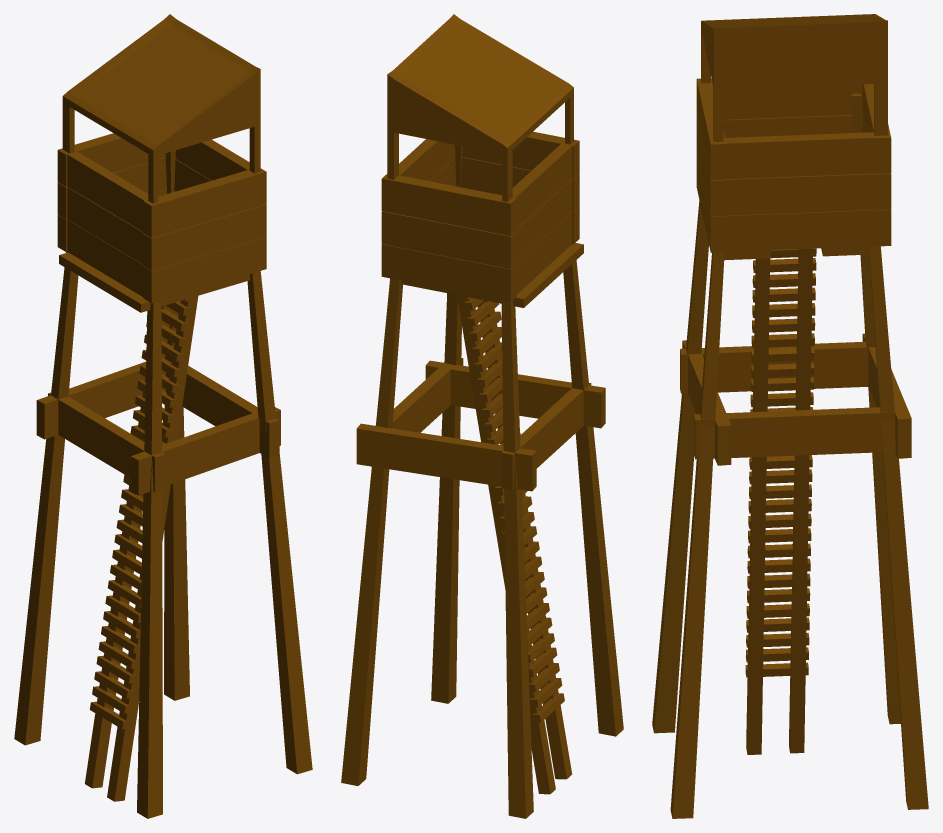
File: ladder.obj
The picture shows the model from 3 angles, left to right: view 1: azimuth 30°, elevation 25°; view 2: azimuth 150°, elevation 25°; view 3: azimuth 270°, elevation 25°; orthographic projection. The views are drawn at different scales.
Parts seen in each view (by area): view 1: Cube.041_Cube; view 2: Cube.041_Cube; view 3: Cube.041_Cube.
Part boxes in pixels (left/top/right/bottom): Cube.041_Cube: left=14, top=14, right=312, bottom=818; Cube.041_Cube: left=341, top=14, right=623, bottom=818; Cube.041_Cube: left=652, top=14, right=928, bottom=818.
Size of the model in its own units: 6.37 by 22.59 by 7.14.
